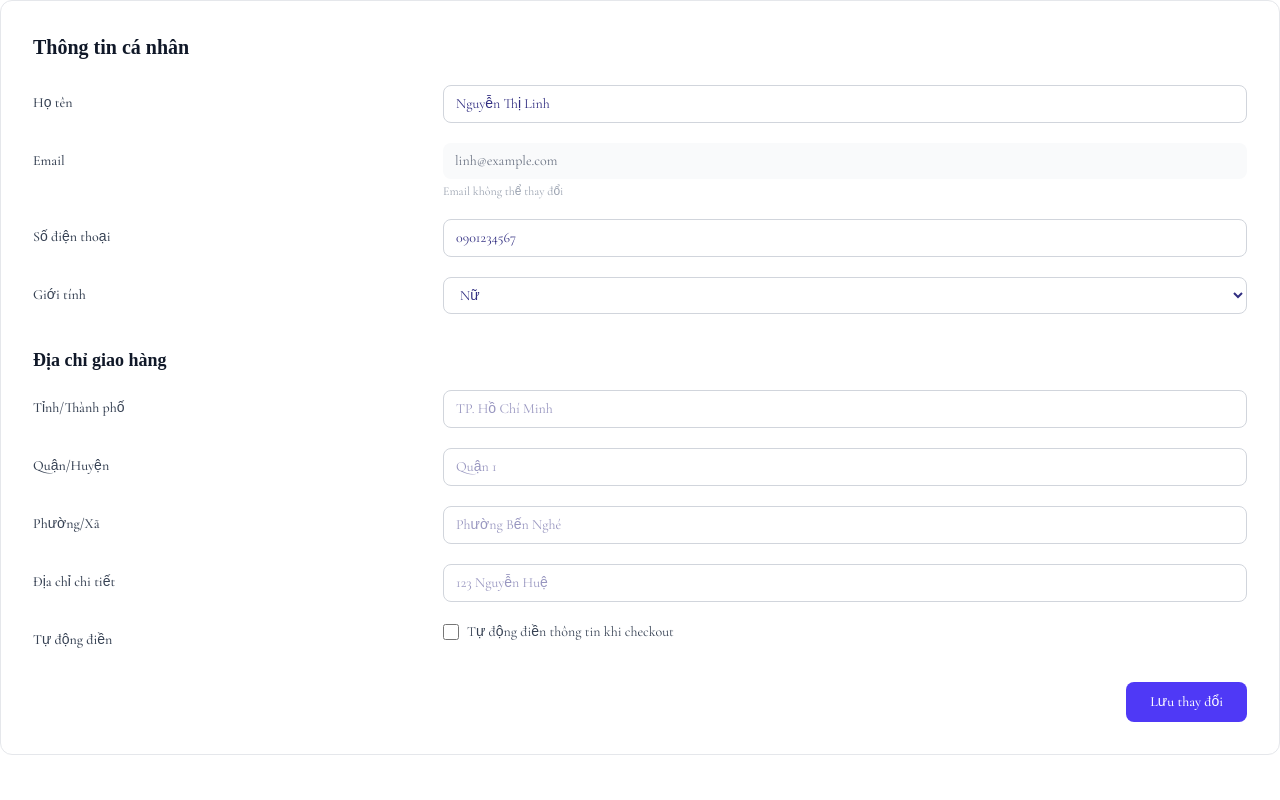
Test: PersonalInfoForm › shows inline error for invalid phone format
Type "12345" into the field labelled "Số điện thoại" at (845, 238), box [443, 219, 1247, 257]
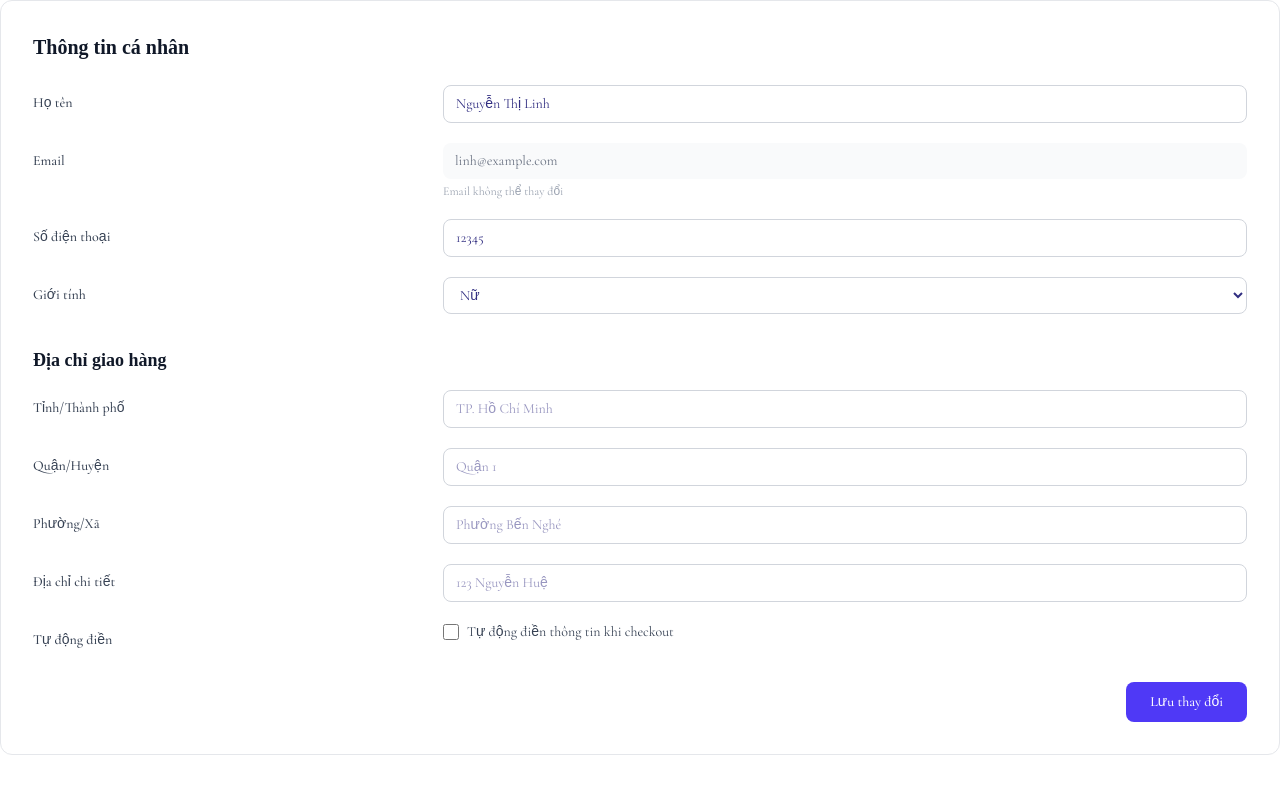
Click the button "Lưu thay đổi" at (1187, 702), box [1126, 682, 1247, 722]
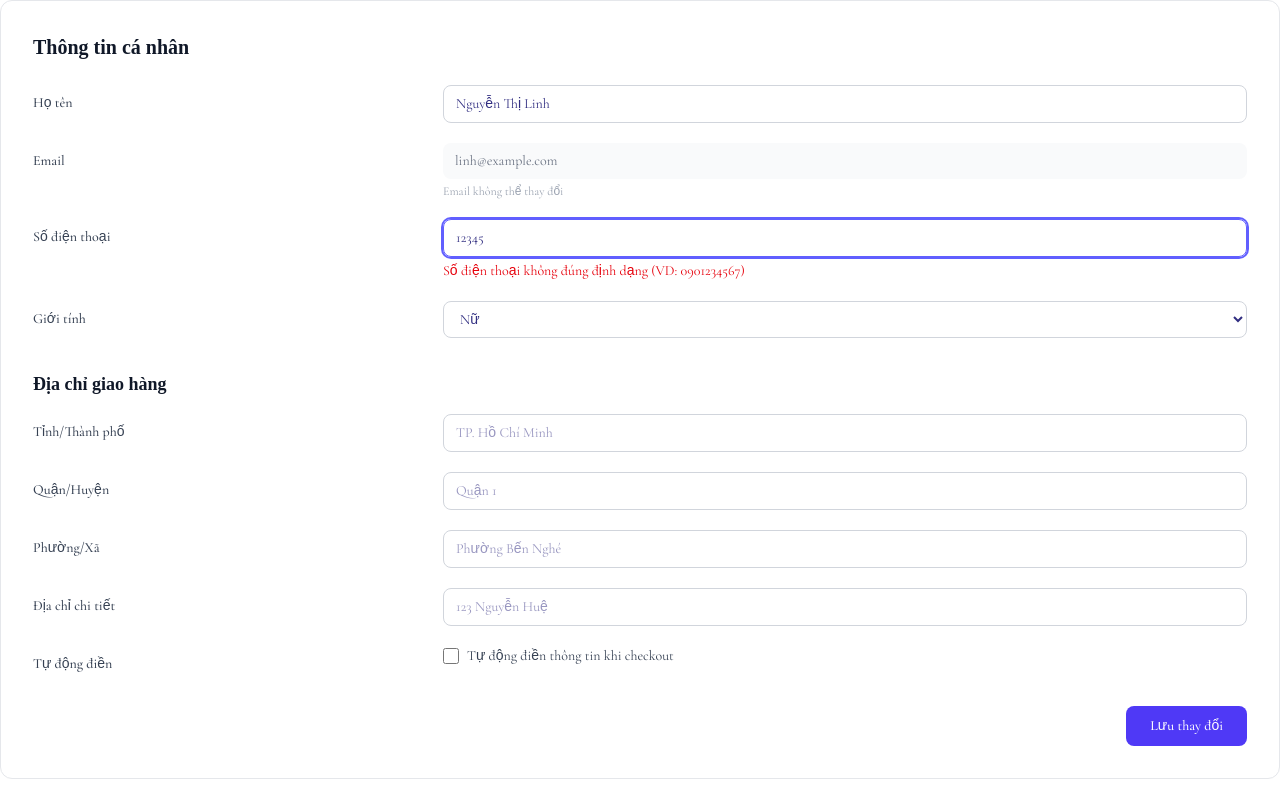
Now the text "Số điện thoại không đúng định dạng (VD: 0901234567)" is shown, box [443, 262, 745, 279]
